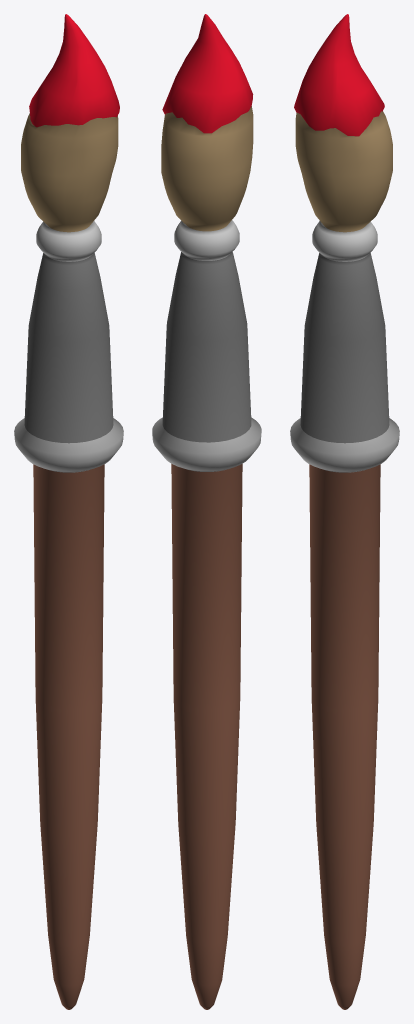
Rendered from Paintbrush.fbx.
3 renders of one model, left to right at view 1: azimuth 90°, elevation 25°; view 2: azimuth 150°, elevation 25°; view 3: azimuth 270°, elevation 25°, orthographic.
Parts seen in each view (by area): view 1: Cylinder; view 2: Cylinder; view 3: Cylinder.
Part boxes in pixels (<box>): Cylinder: <box>14,14,123,1009</box>; Cylinder: <box>152,14,261,1009</box>; Cylinder: <box>290,14,399,1009</box>.
Bounding box in the file's own units: 53.53 × 536 × 53.53.
